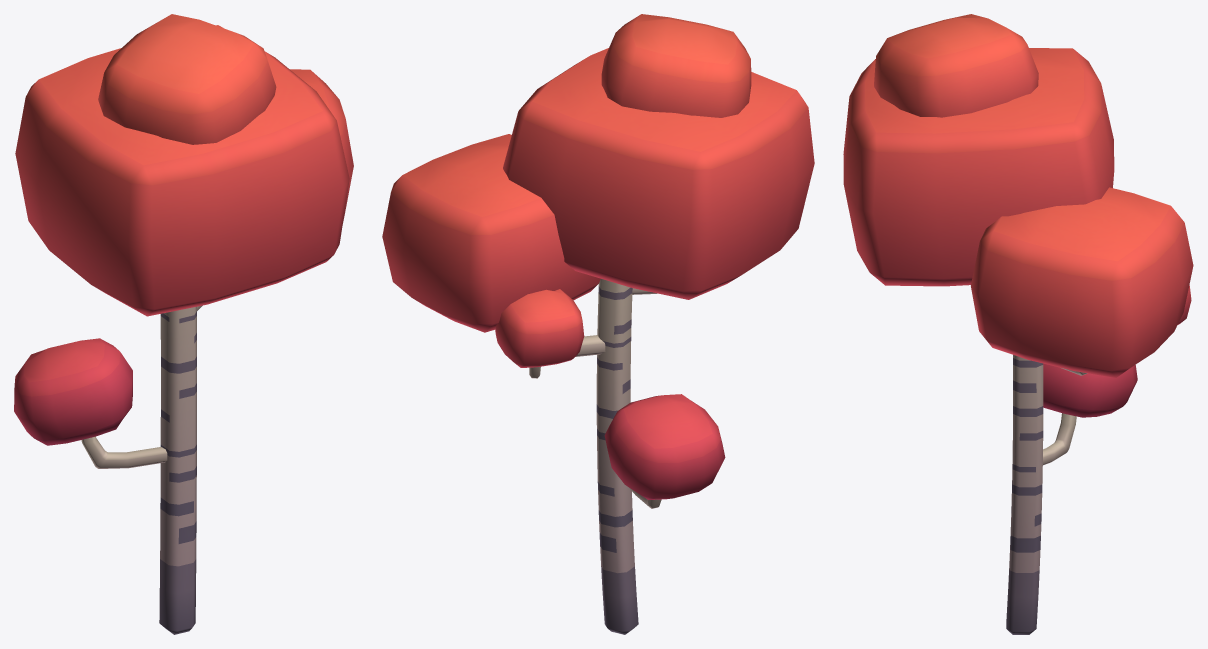
The model's file is birch_tree_SC_03.fbx.
The picture shows the model from 3 angles, left to right: view 1: azimuth 30°, elevation 25°; view 2: azimuth 150°, elevation 25°; view 3: azimuth 270°, elevation 25°; orthographic projection. The views are drawn at different scales.
Parts seen in each view (by area): view 1: birch_tree_SC_03; view 2: birch_tree_SC_03; view 3: birch_tree_SC_03.
Part boxes in pixels (x1,y1,x2,y2): birch_tree_SC_03: (14, 14, 353, 634); birch_tree_SC_03: (382, 14, 814, 634); birch_tree_SC_03: (843, 14, 1193, 634).
Size of the model in its own units: 540 by 937 by 500.
Materials: 1 (1 with a texture image).
